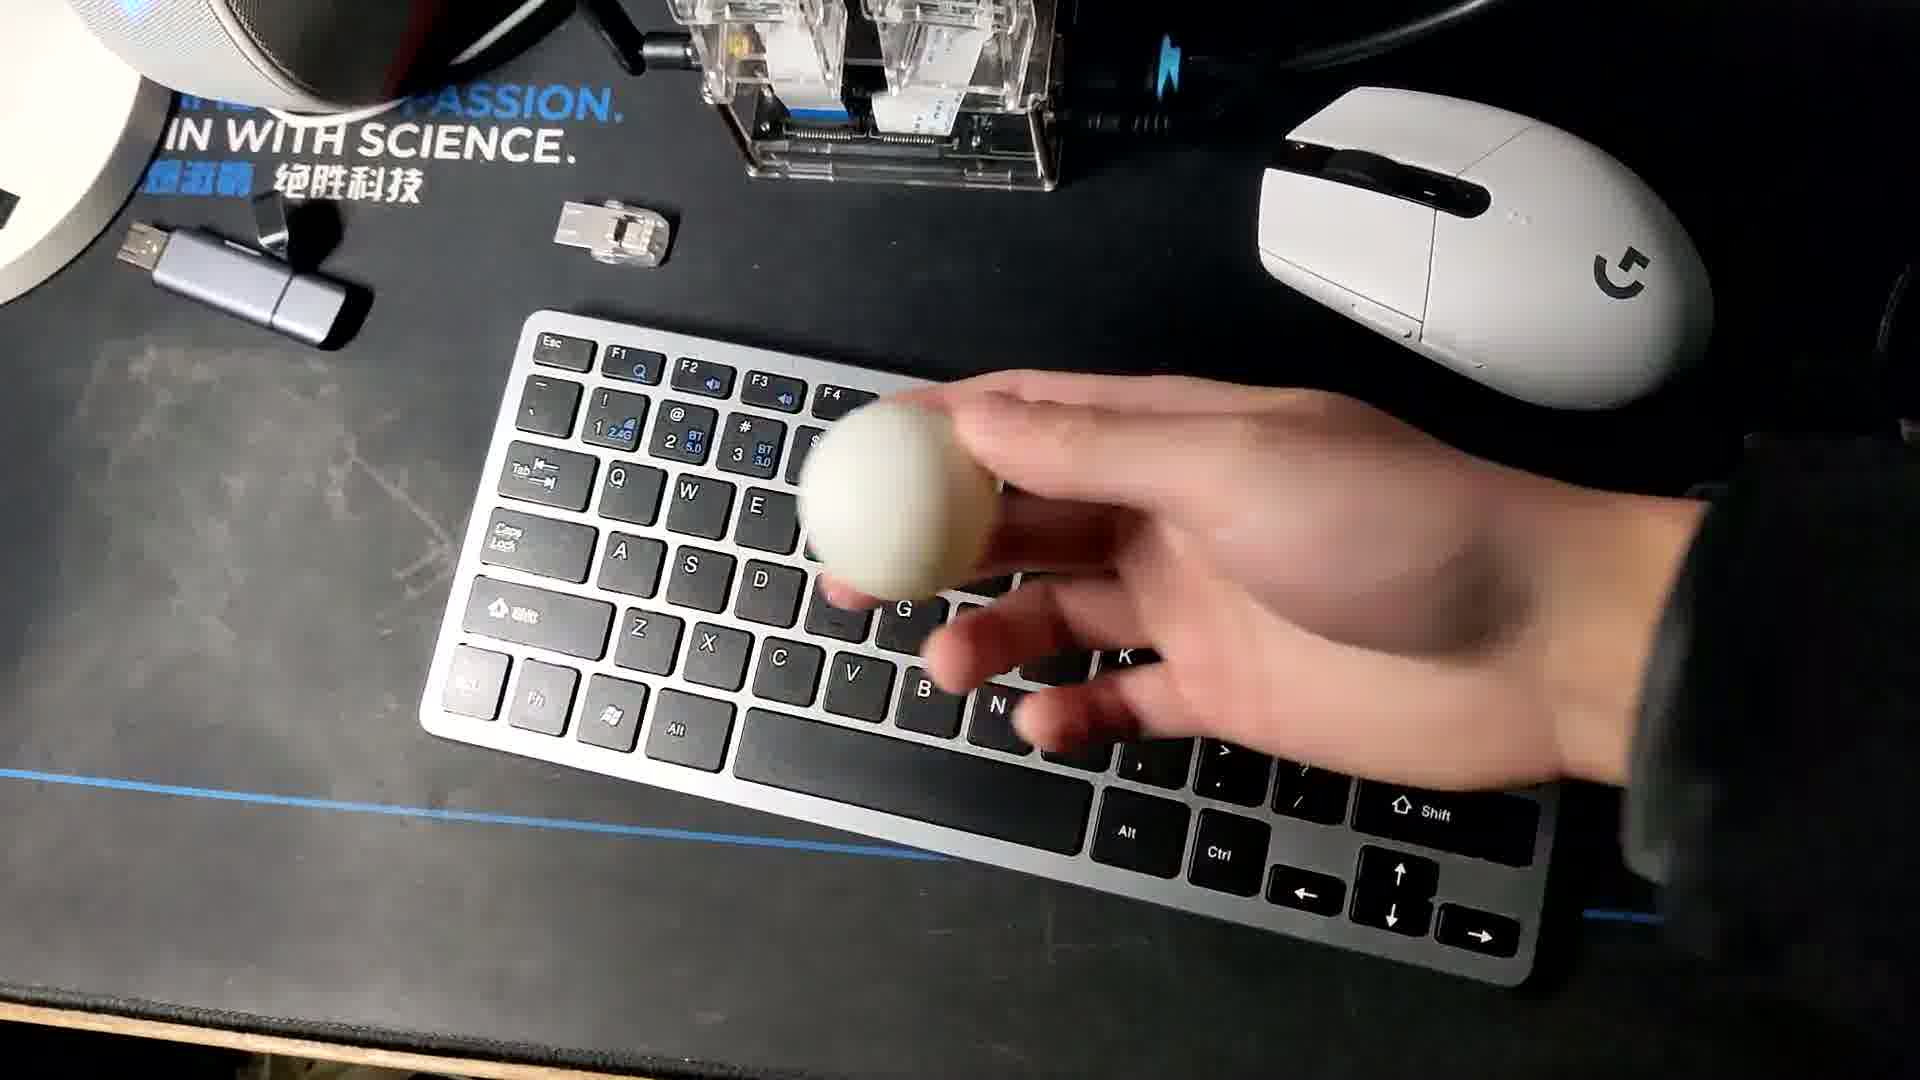Ball: (800, 405, 1005, 605)
